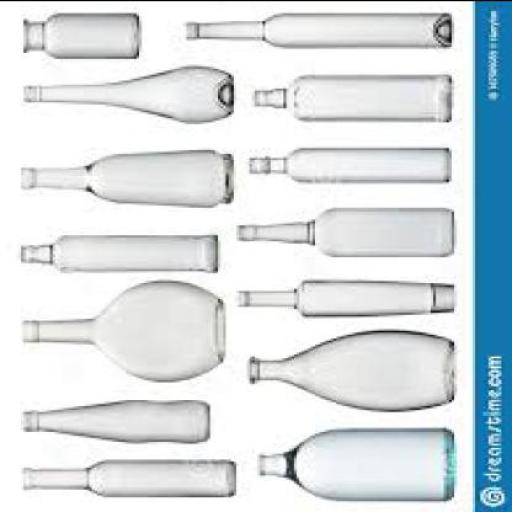glass: (21, 282, 223, 383), (246, 332, 448, 410), (257, 431, 452, 502), (18, 150, 232, 208), (22, 68, 230, 123), (234, 210, 452, 256), (184, 14, 450, 48), (252, 77, 450, 121), (20, 400, 205, 442), (234, 282, 449, 317), (16, 234, 213, 272), (21, 462, 234, 497), (247, 151, 446, 183), (21, 14, 139, 60)
